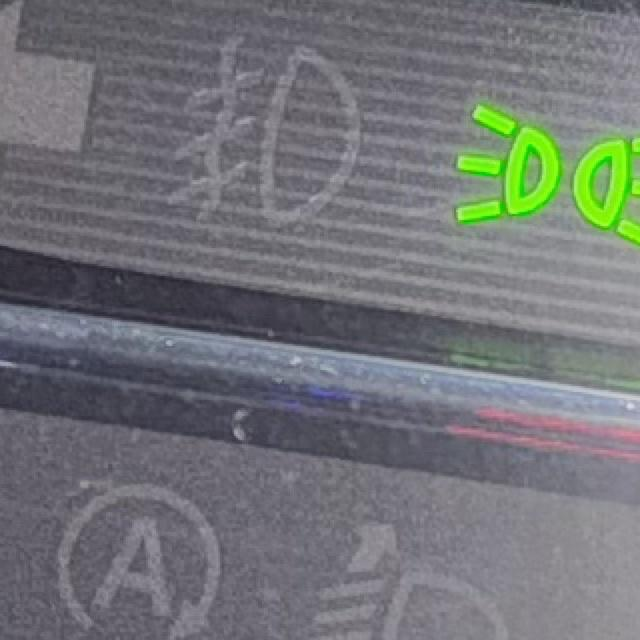Parking Light On: (455, 105, 640, 246)
